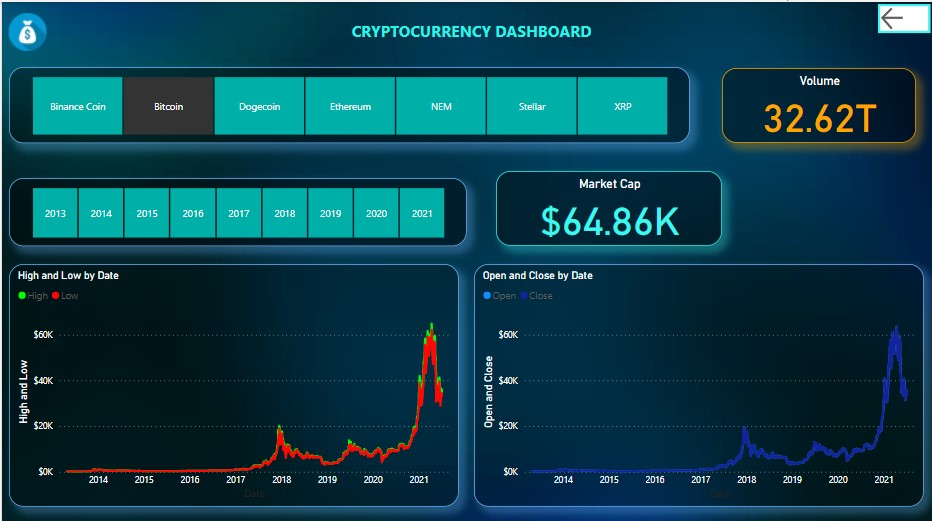

The dashboard page shown, as its layout file describes it:
{"tool":"powerbi","page":{"name":"Page 2","canvas":[1280,720],"ordinal":1},"visuals":[{"type":"slicer","fields":{"Values":["CryptoData.Name"]},"box":[9.6,89.5,937.3,104.6],"z":0},{"type":"slicer","fields":{"Values":["CryptoData.Year"]},"box":[9.6,242.2,630.4,93.6],"z":1000},{"type":"lineChart","fields":{"Category":["CryptoData.Date"],"Y":["Sum(CryptoData.High)","Sum(CryptoData.Low)"]},"box":[9.6,360.6,619.4,334.5],"z":2000},{"type":"image","box":[4.1,1.4,61.9,79.8],"z":3000},{"type":"textbox","box":[476.2,20.6,359.2,41.3],"z":4000},{"type":"card","title":"Volume","fields":{"Values":["Sum(CryptoData.Volume)"]},"box":[991,90.8,267,103.2],"z":5000},{"type":"card","title":"Market Cap","fields":{"Values":["Max(CryptoData.High)"]},"box":[679.9,232.6,311.1,103.2],"z":6000},{"type":"actionButton","box":[1205.7,2.8,71.6,39.9],"z":7000},{"type":"lineChart","fields":{"Category":["CryptoData.Date"],"Y":["Sum(CryptoData.Open)","Sum(CryptoData.Close)"]},"box":[649.6,360.6,619.4,334.5],"z":8000}]}

Visuals, with their boxes in screenshot pixels (x1, y1, x2, y2), scaled from the page's 1280x720 canvas onto the 932x521 screenshot:
slicer - CryptoData.Name: (left=7, top=65, right=689, bottom=140)
slicer - CryptoData.Year: (left=7, top=175, right=466, bottom=243)
lineChart - CryptoData.Date x Sum(CryptoData.High): (left=7, top=261, right=458, bottom=503)
image: (left=3, top=1, right=48, bottom=59)
textbox: (left=347, top=15, right=608, bottom=45)
"Volume" card: (left=722, top=66, right=916, bottom=140)
"Market Cap" card: (left=495, top=168, right=722, bottom=243)
actionButton: (left=878, top=2, right=930, bottom=31)
lineChart - CryptoData.Date x Sum(CryptoData.Open): (left=473, top=261, right=924, bottom=503)
